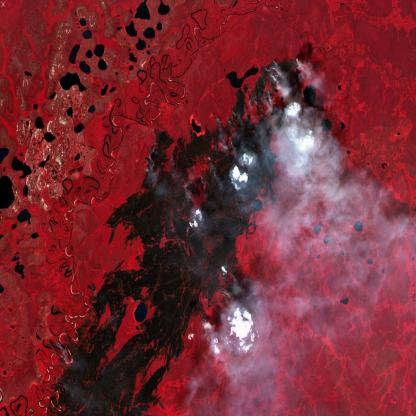fire: (138, 45, 308, 193), (198, 270, 254, 332)
